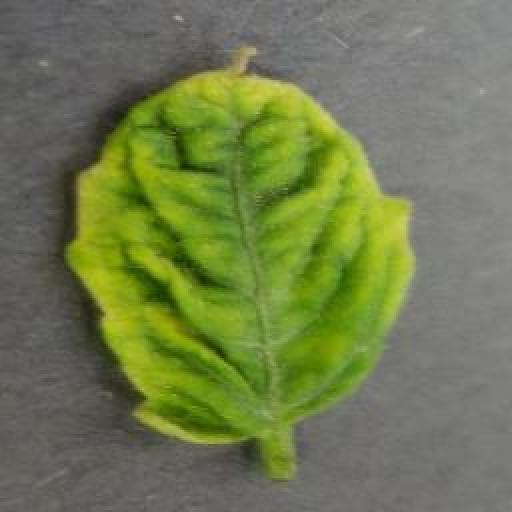disease_tomato: (67, 47, 415, 448)
